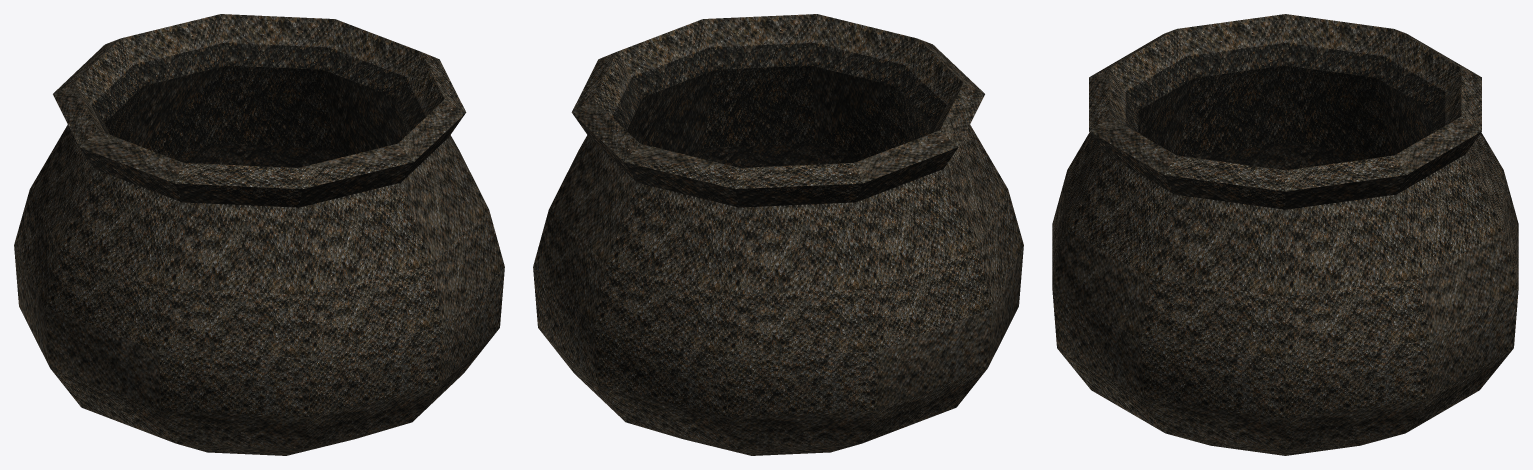
Rendered from mm9_deco_cauldron01.glb.
The picture shows the model from 3 angles, left to right: view 1: azimuth 30°, elevation 25°; view 2: azimuth 150°, elevation 25°; view 3: azimuth 270°, elevation 25°; orthographic projection.
Visible parts, largest first — view 1: Cauldron01; view 2: Cauldron01; view 3: Cauldron01.
Part boxes in pixels (x1,y1,x2,y2): Cauldron01: [14, 14, 504, 455]; Cauldron01: [533, 14, 1023, 455]; Cauldron01: [1052, 14, 1518, 455].
Size of the model in its own units: 1.22 by 0.8476 by 1.16.
1 material, 1 textured.
